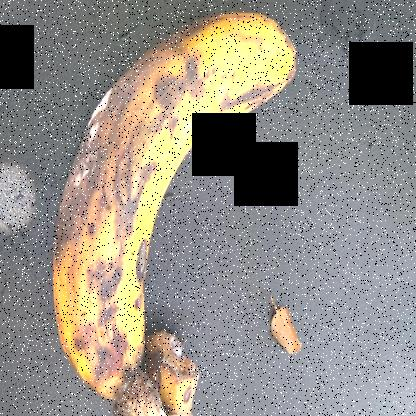overripe: (54, 18, 310, 396)
rotten: (34, 29, 168, 288)
